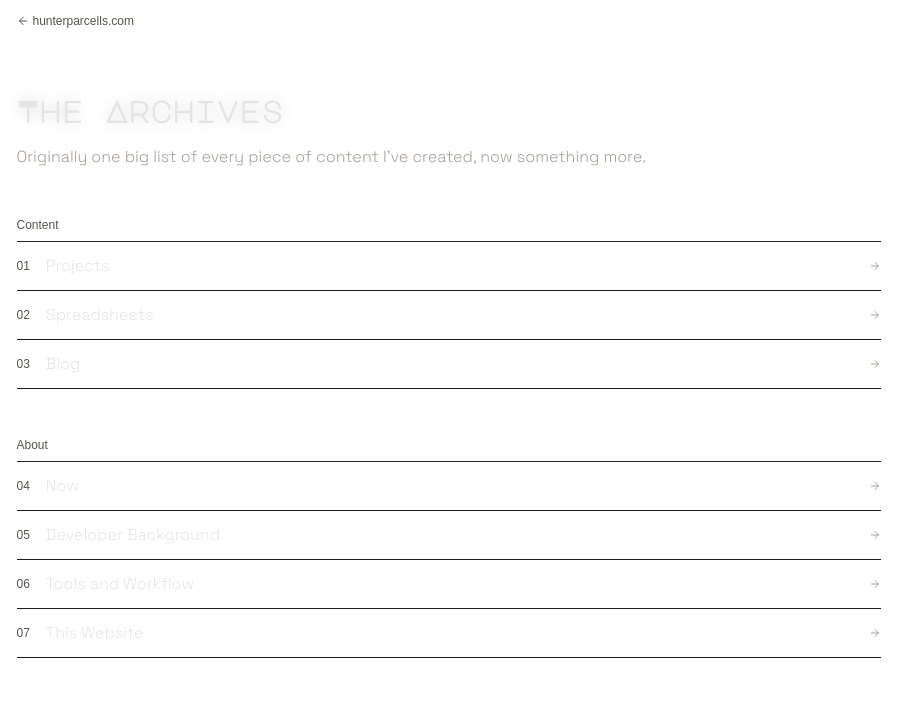
Test: Navigation › internal links › "Developer Background" navigates to /background
Click the link "05 Developer Background": (449, 536) [17,511,881,560]
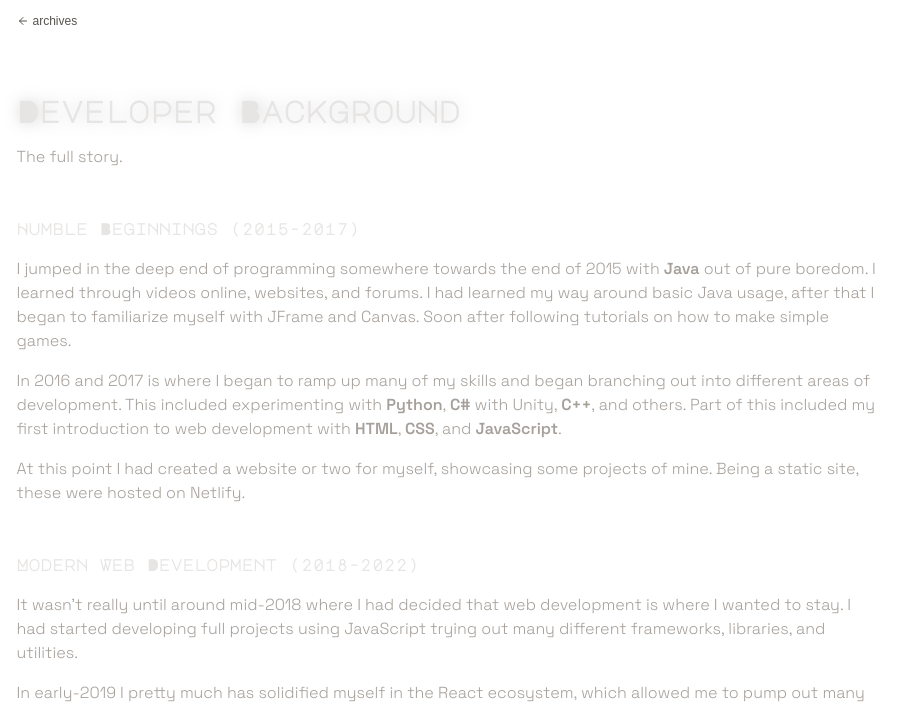
Now the heading "Developer Background" is shown, box [16,96,460,126]
